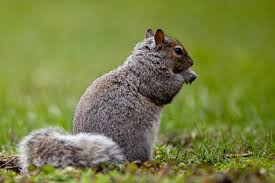squirrel: (21, 28, 200, 167)
